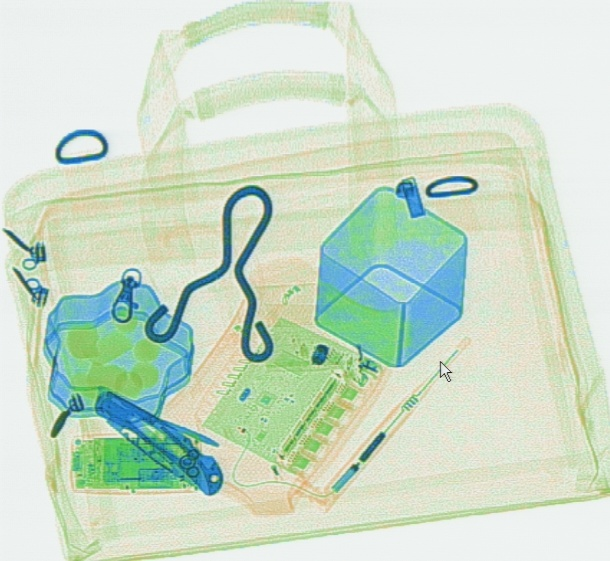knife: (90, 389, 225, 495)
slingshot: (141, 181, 274, 363)
